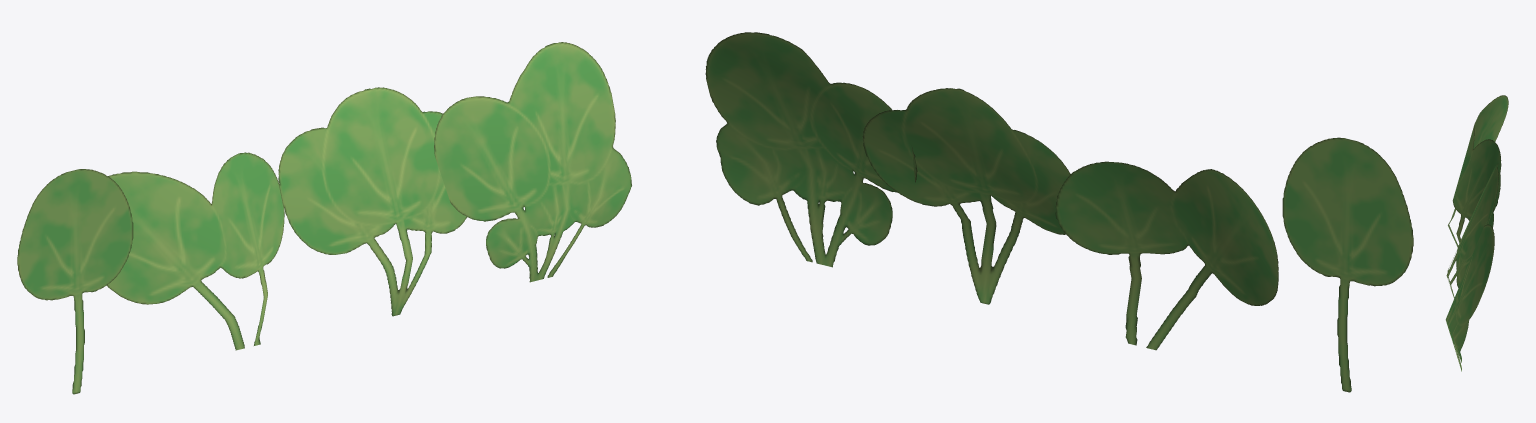
Rendered from LeafSetH_5.fbx.
3 views of the same model, side by side, from view 1: azimuth 30°, elevation 25°; view 2: azimuth 150°, elevation 25°; view 3: azimuth 270°, elevation 25° (orthographic). The views are drawn at different scales.
Parts seen in each view (by area): view 1: LeafSetH_5; view 2: LeafSetH_5; view 3: LeafSetH_5.
Part boxes in pixels (left/top/right/bottom): LeafSetH_5: left=17, top=42, right=631, bottom=394; LeafSetH_5: left=705, top=32, right=1413, bottom=392; LeafSetH_5: left=1445, top=95, right=1508, bottom=371.
Size of the model in its own units: 0.8636 by 0.3066 by 0.1238.
